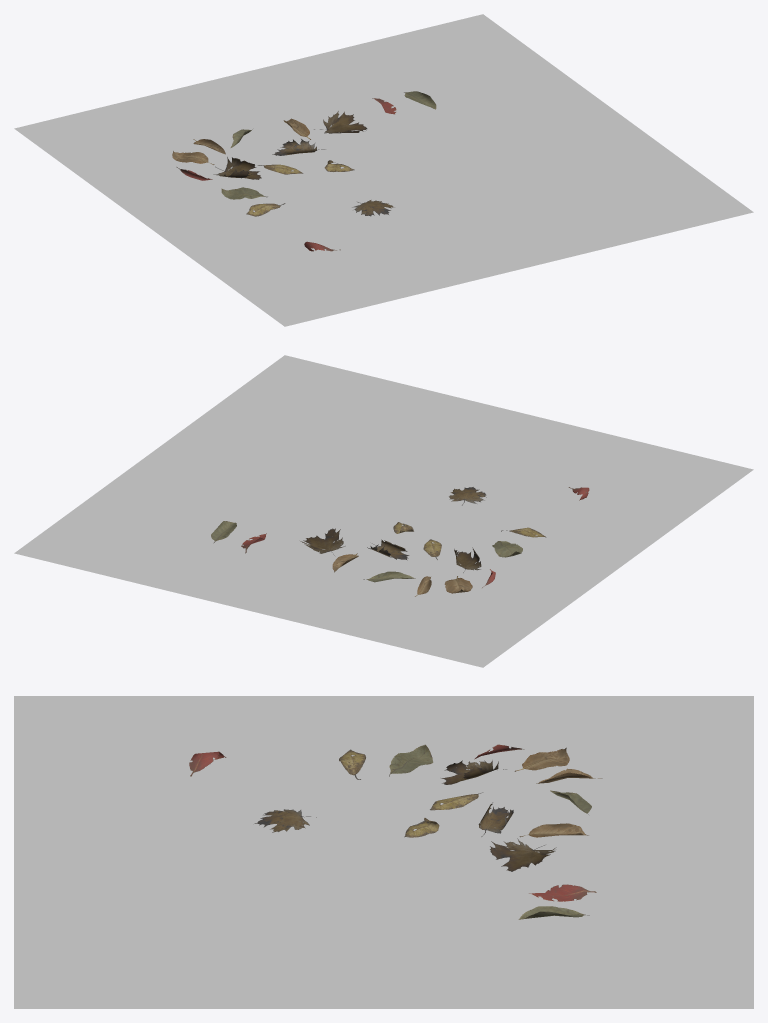
File: Leaves12.FBX
3 views of the same model, one above another, from view 1: azimuth 30°, elevation 25°; view 2: azimuth 150°, elevation 25°; view 3: azimuth 270°, elevation 25° (orthographic). The views are drawn at different scales.
Parts seen in each view (by area): view 1: Leaves12_Decal, Leaves12; view 2: Leaves12_Decal, Leaves12; view 3: Leaves12_Decal, Leaves12.
Boxes of the visible parts, bbox=[...] form: Leaves12_Decal: bbox=[14, 14, 753, 326]; Leaves12: bbox=[172, 91, 436, 251]; Leaves12_Decal: bbox=[14, 355, 753, 667]; Leaves12: bbox=[211, 487, 589, 596]; Leaves12_Decal: bbox=[14, 696, 753, 1008]; Leaves12: bbox=[189, 744, 602, 919].
Bounding box in the file's own units: 1.1 × 0.034 × 1.1.
